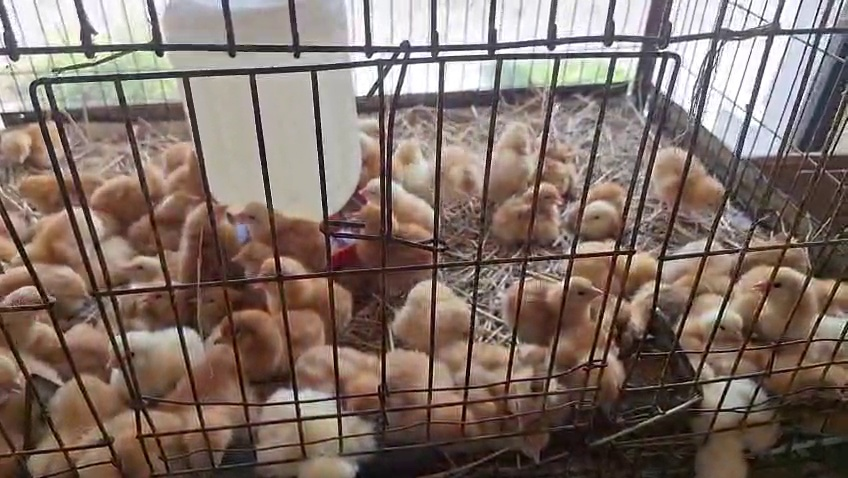Pollo: (264, 367, 398, 478), (178, 337, 276, 470), (40, 362, 142, 477), (683, 374, 782, 478), (216, 284, 334, 371), (402, 331, 486, 441), (257, 245, 361, 332), (106, 391, 205, 478), (310, 316, 409, 403), (111, 307, 209, 394), (474, 316, 572, 403), (537, 311, 635, 398), (346, 199, 450, 277), (498, 259, 605, 333), (650, 142, 739, 230), (12, 304, 111, 381), (480, 391, 578, 468), (233, 190, 350, 253), (394, 272, 483, 351), (428, 130, 504, 217), (89, 137, 168, 220), (475, 104, 550, 191), (29, 194, 123, 262), (746, 266, 824, 347), (484, 174, 563, 247), (19, 156, 116, 214), (680, 294, 760, 362), (559, 231, 663, 283), (183, 188, 257, 261), (0, 249, 92, 307), (132, 176, 206, 245), (668, 225, 751, 282), (565, 183, 640, 243), (608, 281, 681, 337), (187, 272, 261, 327), (229, 237, 293, 300), (356, 162, 444, 207), (137, 261, 208, 316), (387, 129, 445, 194), (0, 115, 68, 168), (518, 137, 573, 189), (161, 124, 211, 176), (353, 94, 402, 143), (126, 248, 189, 280)
